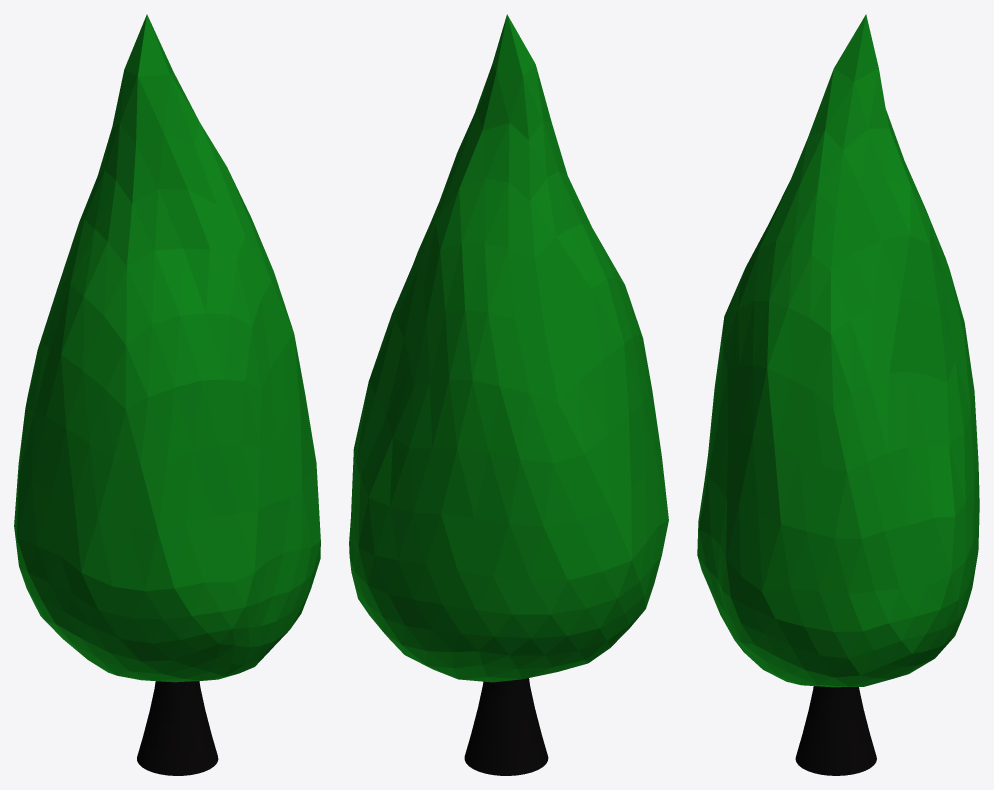
The model's file is tree_1.obj.
3 renders of one model, left to right at view 1: azimuth 30°, elevation 25°; view 2: azimuth 150°, elevation 25°; view 3: azimuth 270°, elevation 25°, orthographic. The views are drawn at different scales.
Visible parts, largest first — view 1: Icosphere, Cylinder; view 2: Icosphere, Cylinder; view 3: Icosphere, Cylinder.
Boxes of the visible parts, x1,y1,x2,y2 form: Icosphere: (14,14,320,682); Cylinder: (137,681,218,775); Icosphere: (349,14,668,682); Cylinder: (464,678,548,775); Icosphere: (697,14,979,687); Cylinder: (795,686,876,775).
Bounding box in the file's own units: 3.1 × 7.98 × 2.77.
